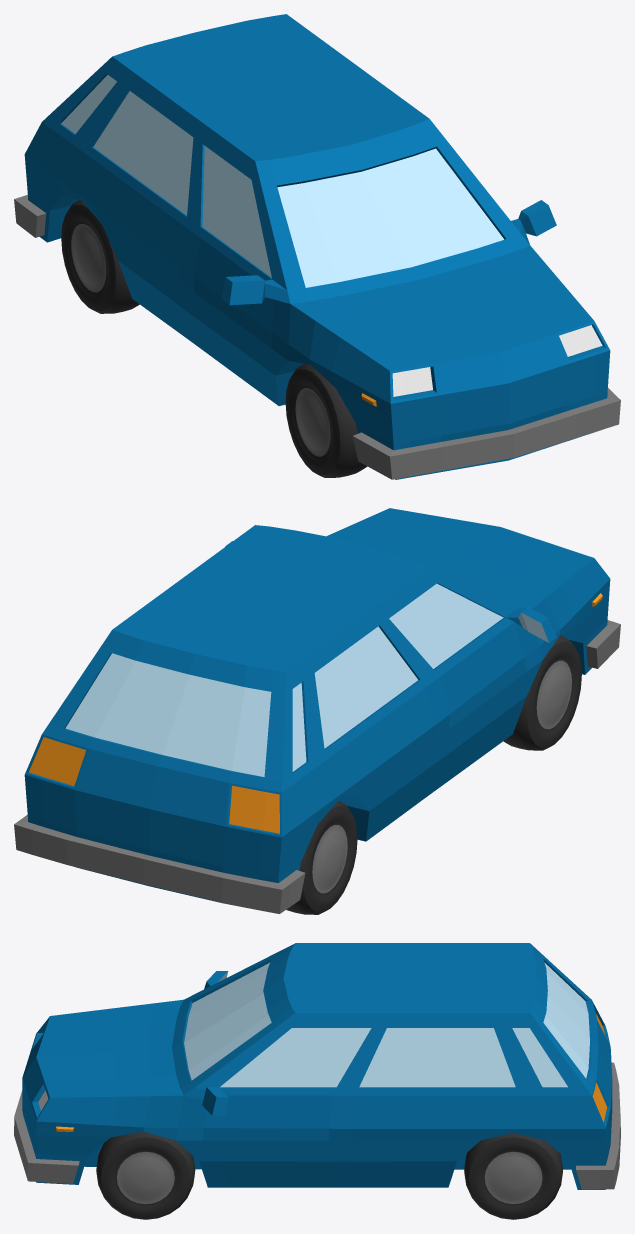
File: 047 Low Poly Car 4.obj
The picture shows the model from 3 angles, top to bottom: view 1: azimuth 30°, elevation 25°; view 2: azimuth 150°, elevation 25°; view 3: azimuth 270°, elevation 25°; orthographic projection. The views are drawn at different scales.
Parts seen in each view (by area): view 1: 1377_Car, 1377_Car.001, 1377_Car.002; view 2: 1377_Car, 1377_Car.001, 1377_Car.002; view 3: 1377_Car, 1377_Car.004, 1377_Car.003.
Boxes of the visible parts, bbox=[...] form: 1377_Car: bbox=[14, 14, 620, 479]; 1377_Car.001: bbox=[285, 364, 367, 477]; 1377_Car.002: bbox=[61, 200, 139, 313]; 1377_Car: bbox=[14, 508, 620, 913]; 1377_Car.001: bbox=[503, 635, 581, 750]; 1377_Car.002: bbox=[286, 801, 357, 914]; 1377_Car: bbox=[14, 943, 620, 1189]; 1377_Car.004: bbox=[96, 1131, 195, 1219]; 1377_Car.003: bbox=[464, 1133, 562, 1219].
Size of the model in its own units: 45.5 by 31.97 by 89.11.
